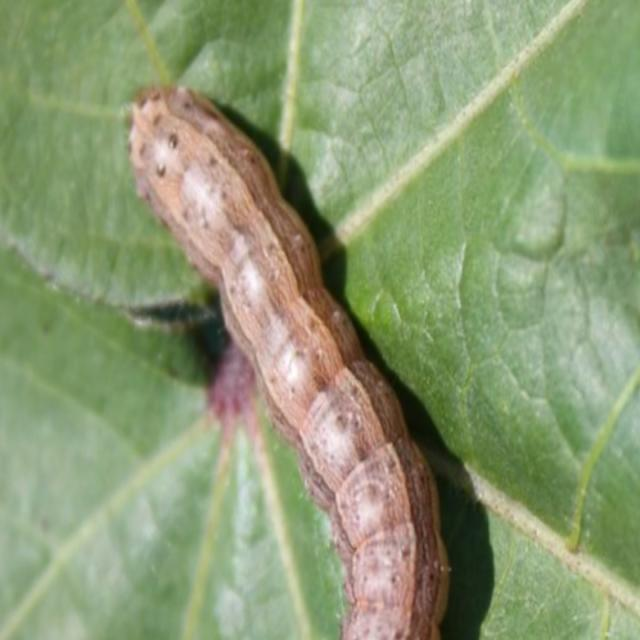armyworm: (124, 80, 452, 638)
